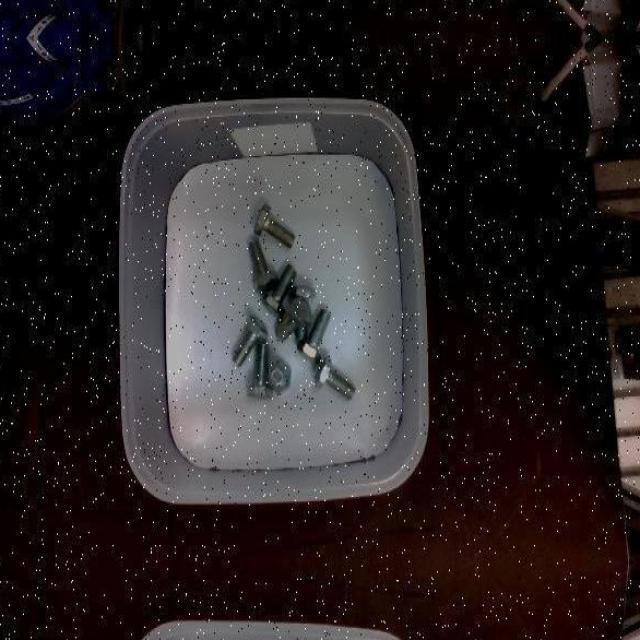screw: (232, 313, 270, 367), (262, 262, 297, 317), (298, 307, 331, 364), (254, 203, 296, 247), (315, 356, 356, 400), (276, 295, 314, 340), (249, 238, 279, 293), (247, 342, 273, 398), (268, 360, 290, 394)
